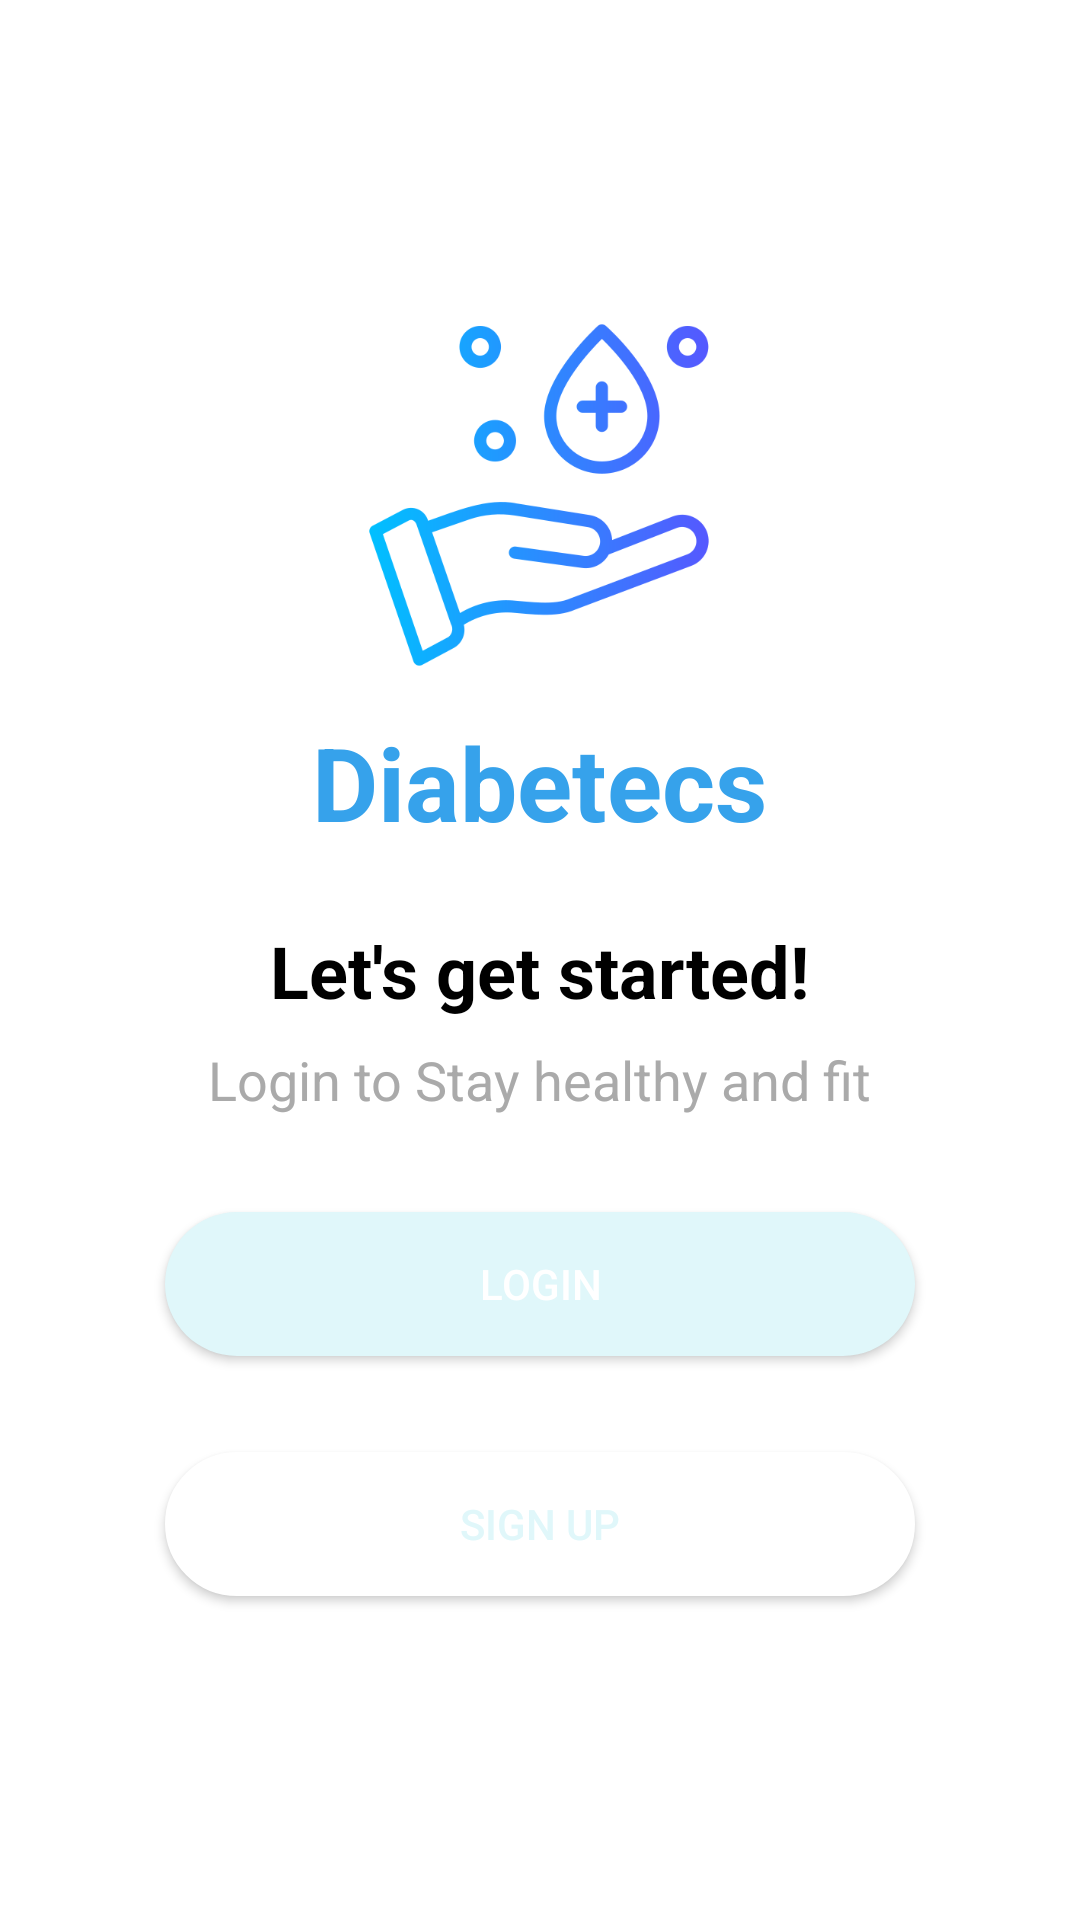

Where icons sit on this 1080 x 1920 app screen, as (x1, y1, x2, y2):
sanitary: (369, 324, 709, 666)
